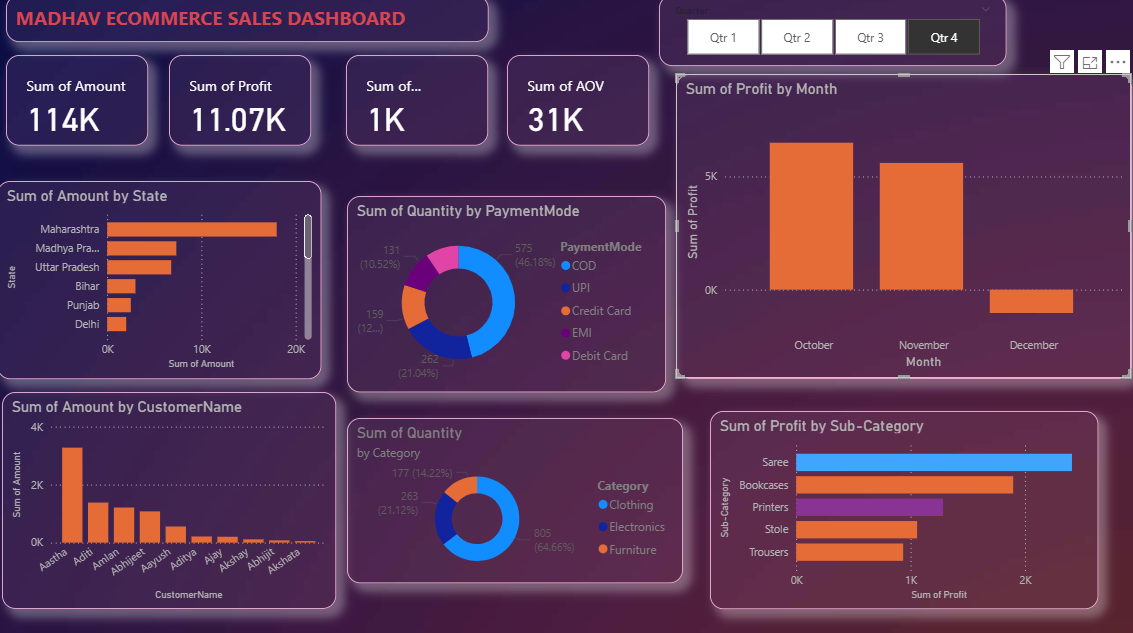

Layout of this report page (visuals, bound fields, positions):
{"tool":"powerbi","page":{"name":"Page 1","canvas":[1280,720],"ordinal":0},"visuals":[{"type":"textbox","box":[10,0,542.7,52.7],"z":0},{"type":"columnChart","fields":{"Y":["Sum(Details.Profit)"],"Category":["Order.Order Date.Variation.Date Hierarchy.Month"]},"box":[763.8,88.8,512.5,342.5],"z":1000},{"type":"clusteredBarChart","fields":{"Category":["Details.Sub-Category"],"Y":["Sum(Details.Profit)"]},"box":[802.2,467.8,436.7,223.3],"z":2000},{"type":"donutChart","fields":{"Category":["Details.Category"],"Y":["Sum(Details.Quantity)"]},"box":[393.3,475.6,377.8,185.6],"z":3000},{"type":"donutChart","fields":{"Category":["Details.PaymentMode"],"Y":["Sum(Details.Quantity)"]},"box":[393.8,226.1,358.9,220.5],"z":4000},{"type":"cardVisual","fields":{"Data":["Sum(Details.Amount)"]},"box":[10,67.8,160,102.2],"z":5000},{"type":"cardVisual","fields":{"Data":["Sum(Details.Profit)"]},"box":[193.3,67.8,160,102.2],"z":6000},{"type":"cardVisual","fields":{"Data":["Sum(Details.Quantity)"]},"box":[392.6,67.5,159.8,102.4],"z":7000},{"type":"cardVisual","fields":{"Data":["Sum(Details.AOV)"]},"box":[573.3,67.8,160,102.2],"z":8000},{"type":"clusteredBarChart","fields":{"Category":["Order.State"],"Y":["Sum(Details.Amount)"]},"box":[0,208.8,365,222.5],"z":9000},{"type":"columnChart","fields":{"Category":["Order.CustomerName"],"Y":["Sum(Details.Amount)"]},"box":[5.6,446.7,375.6,244.4],"z":10000},{"type":"slicer","fields":{"Values":["Order.Order Date.Variation.Date Hierarchy.Quarter"]},"box":[744.4,0,391.1,80],"z":11000}]}

Visuals, with their boxes in screenshot pixels (x1, y1, x2, y2), scaled from the page's 1280x720 canvas onto the 1133x633 screenshot:
textbox: [9, 0, 489, 46]
columnChart - Sum(Details.Profit) x Order.Order Date.Variation.Date Hierarchy.Month: [676, 78, 1130, 379]
clusteredBarChart - Details.Sub-Category x Sum(Details.Profit): [710, 411, 1097, 608]
donutChart - Details.Category x Sum(Details.Quantity): [348, 418, 683, 581]
donutChart - Details.PaymentMode x Sum(Details.Quantity): [349, 199, 666, 393]
cardVisual - Sum(Details.Amount): [9, 60, 150, 149]
cardVisual - Sum(Details.Profit): [171, 60, 313, 149]
cardVisual - Sum(Details.Quantity): [348, 59, 489, 149]
cardVisual - Sum(Details.AOV): [507, 60, 649, 149]
clusteredBarChart - Order.State x Sum(Details.Amount): [0, 184, 323, 379]
columnChart - Order.CustomerName x Sum(Details.Amount): [5, 393, 337, 608]
slicer - Order.Order Date.Variation.Date Hierarchy.Quarter: [659, 0, 1005, 70]
